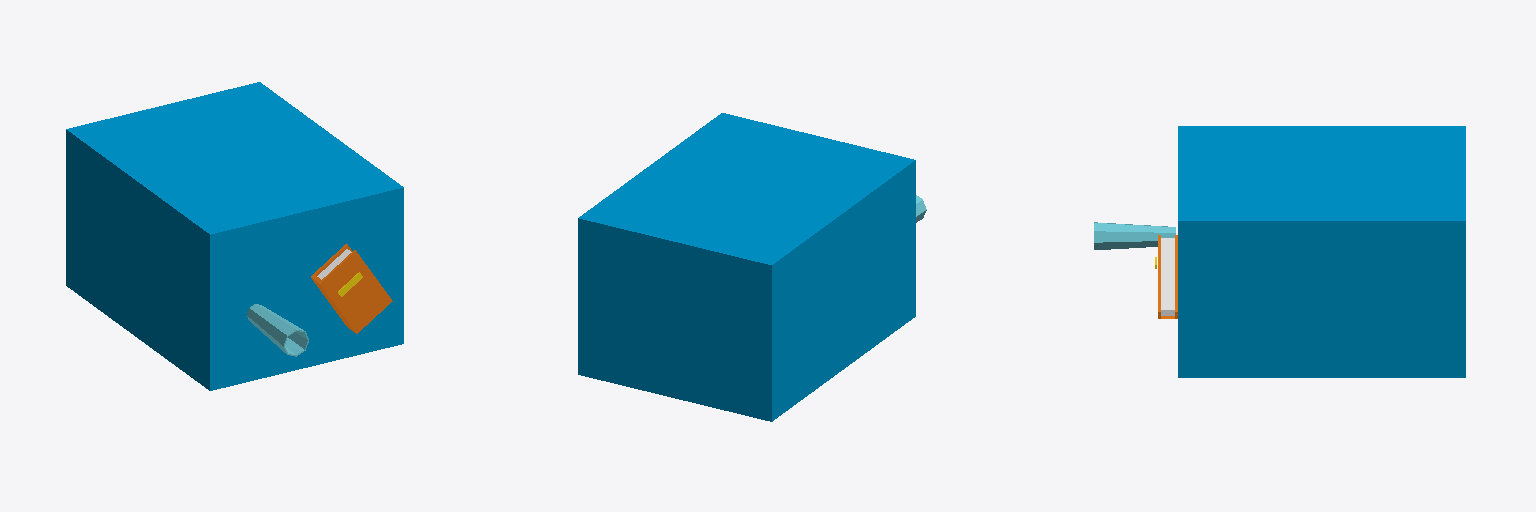
File: tinker.obj
The picture shows the model from 3 angles: view 1: azimuth 30°, elevation 25°; view 2: azimuth 150°, elevation 25°; view 3: azimuth 270°, elevation 25°; orthographic projection.
Visible parts, largest first — view 1: obj_0; view 2: obj_0; view 3: obj_0.
Part boxes in pixels (bbox=[...]): obj_0: bbox=[66, 82, 403, 390]; obj_0: bbox=[578, 113, 926, 421]; obj_0: bbox=[1094, 126, 1465, 377].
Bounding box in the file's own units: 149 × 121 × 248.